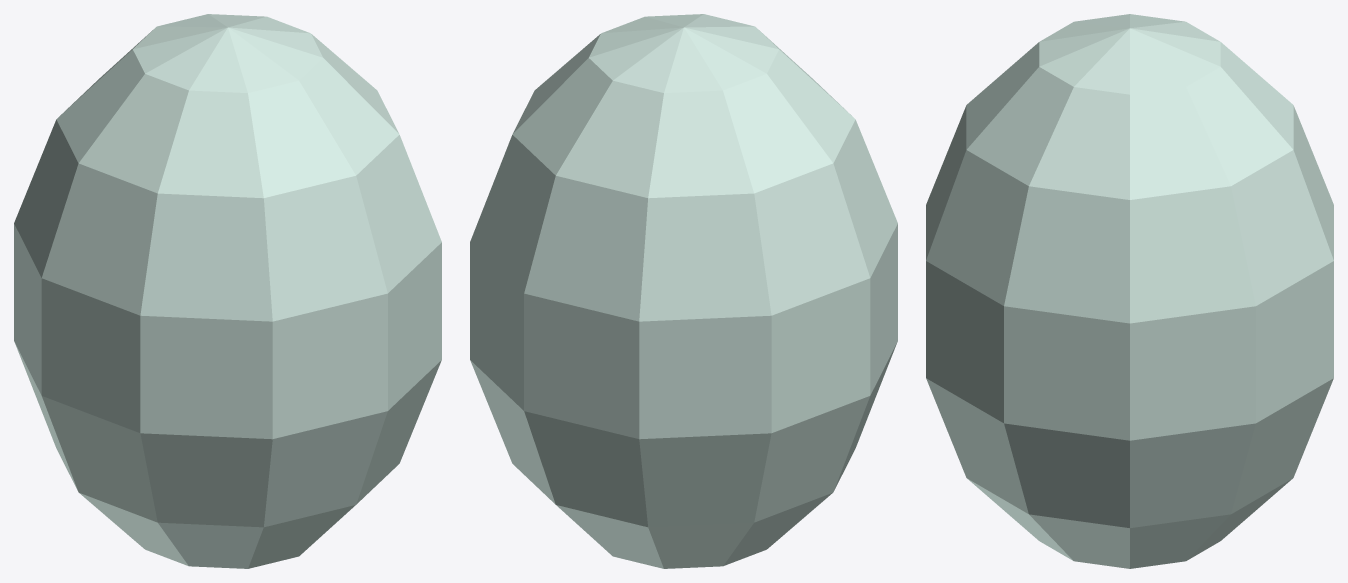
File: duck_egg.obj
3 views of the same model, side by side, from view 1: azimuth 30°, elevation 25°; view 2: azimuth 150°, elevation 25°; view 3: azimuth 270°, elevation 25° (orthographic).
Visible parts, largest first — view 1: item; view 2: item; view 3: item.
Part boxes in pixels (bbox=[...]): item: bbox=[14, 14, 441, 568]; item: bbox=[470, 14, 897, 568]; item: bbox=[926, 14, 1333, 568].
Bounding box in the file's own units: 0.351 × 0.4752 × 0.3338.
